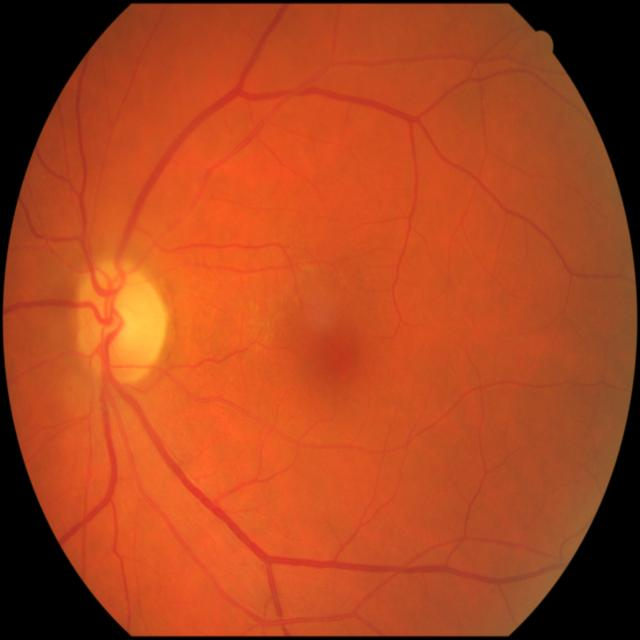OC: (108, 304, 136, 341)
OD: (76, 264, 170, 384)
